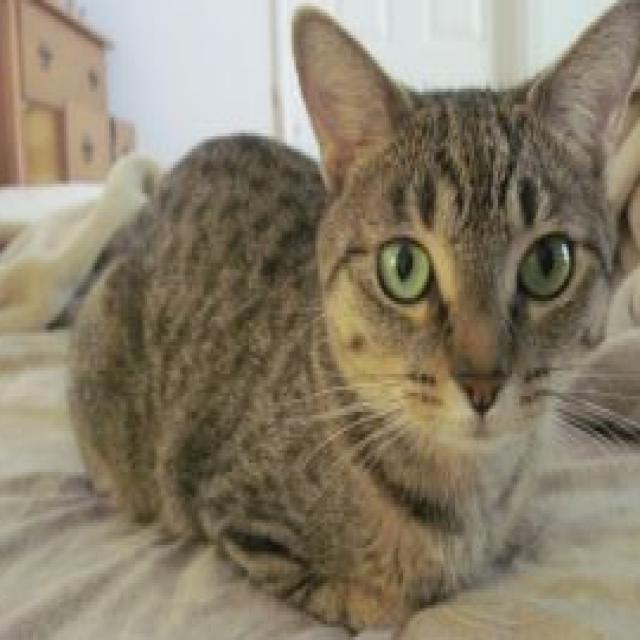Bengal: (50, 0, 640, 634)
